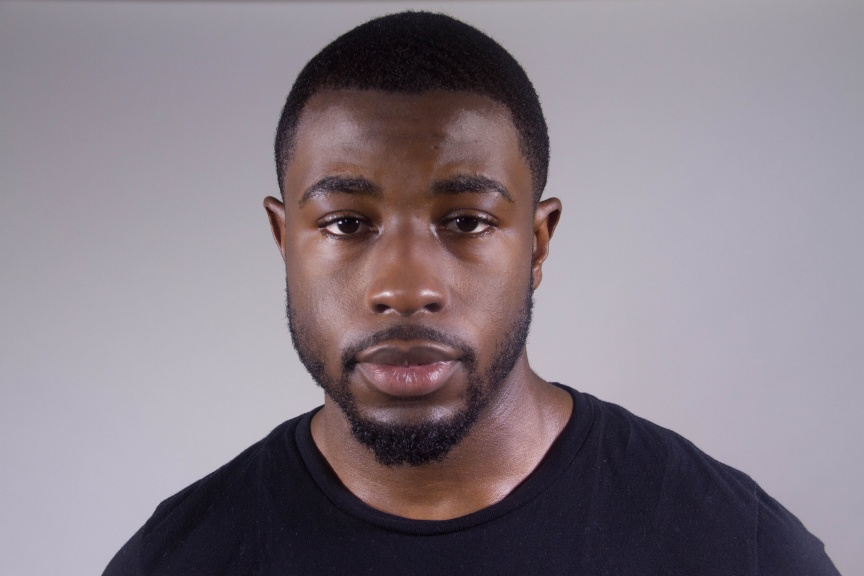Forehead: (303, 88, 514, 190)
